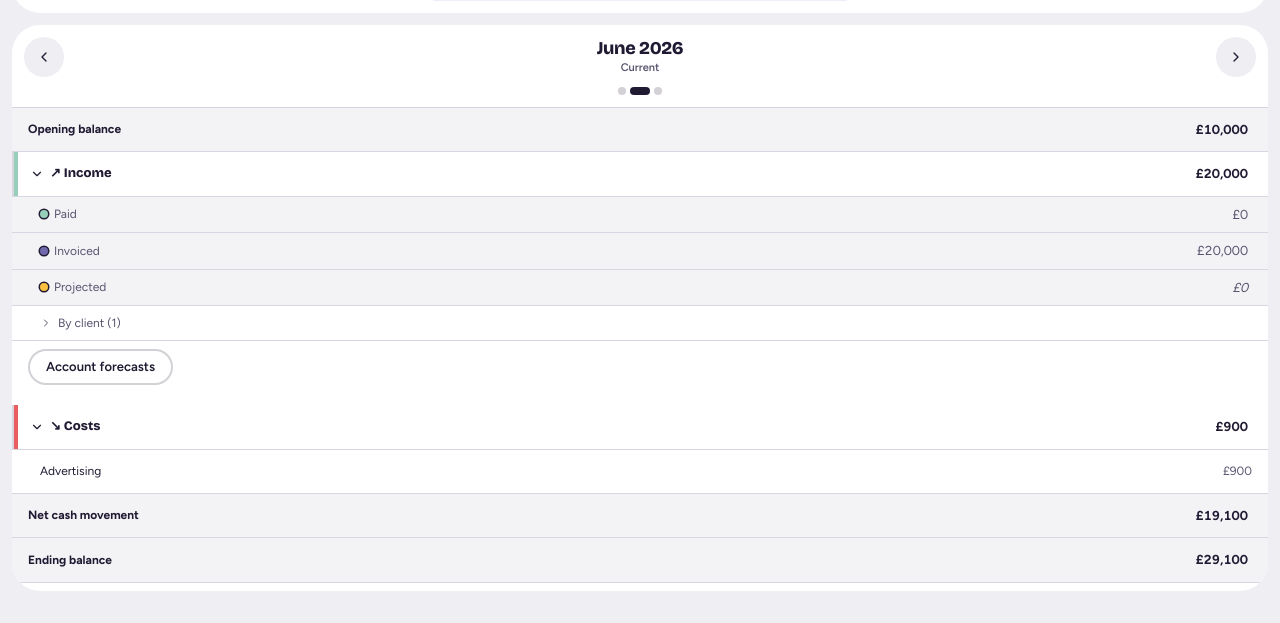
Test: CashflowMobile on the layered shape › shows client rows when expanded; they are plain text, not editable
(page scrolled)
Click the button "By client (1)".
click(85, 323)  # box [12,306,1268,341]
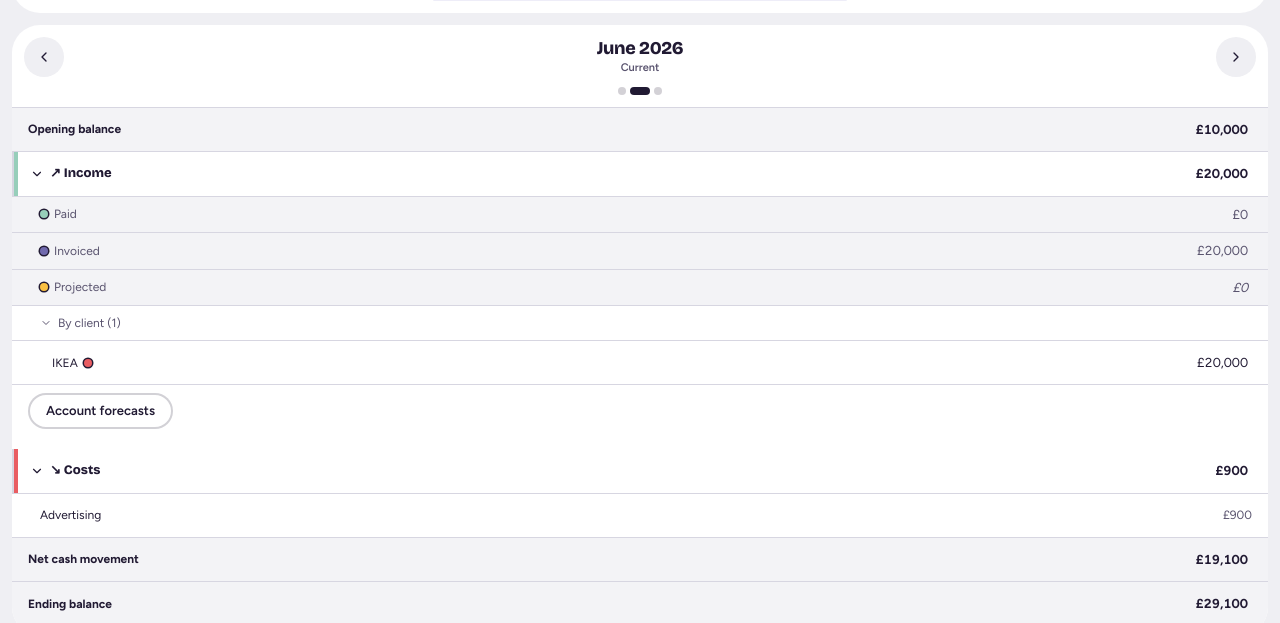
Expected: the text "IKEA" is shown, [52,356,92,370]
